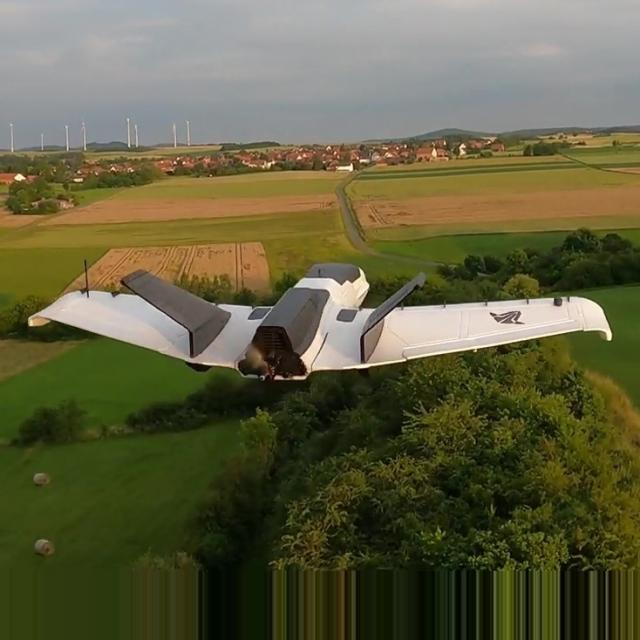iha: (29, 247, 611, 393)
